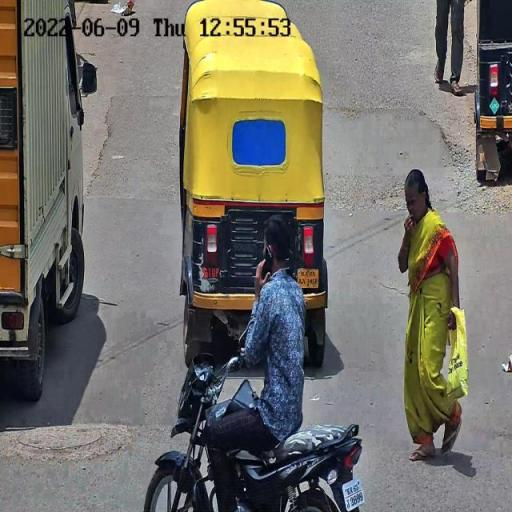using mobile: (241, 234, 281, 286)
